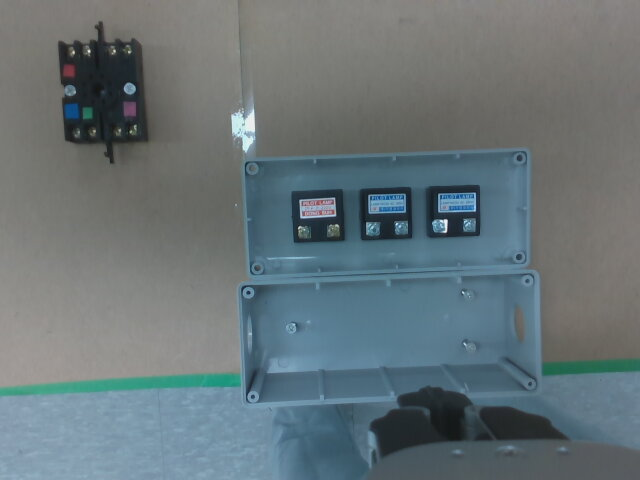L1(1): (297, 226, 310, 239)
L1(2): (326, 224, 340, 238)
L2(1): (366, 222, 380, 236)
L2(2): (395, 221, 408, 234)
L3(1): (434, 219, 448, 233)
L3(2): (464, 218, 476, 231)
